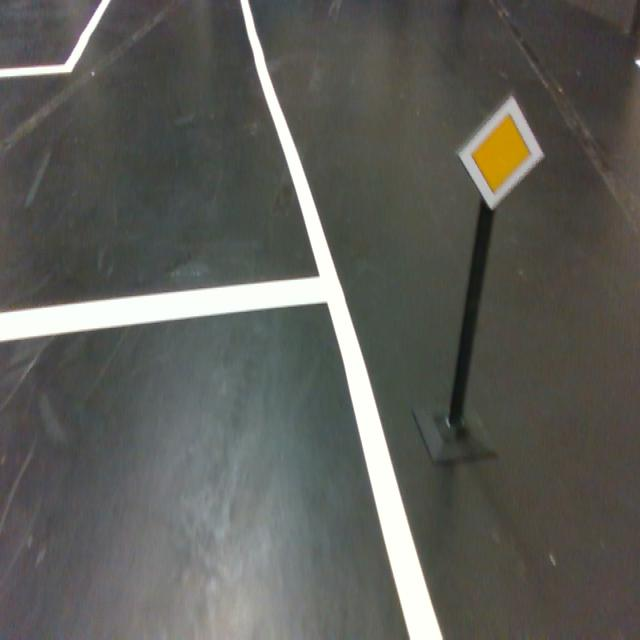priority-sign: (456, 95, 546, 212)
